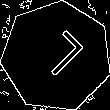L_SW: (27, 27, 85, 85)
